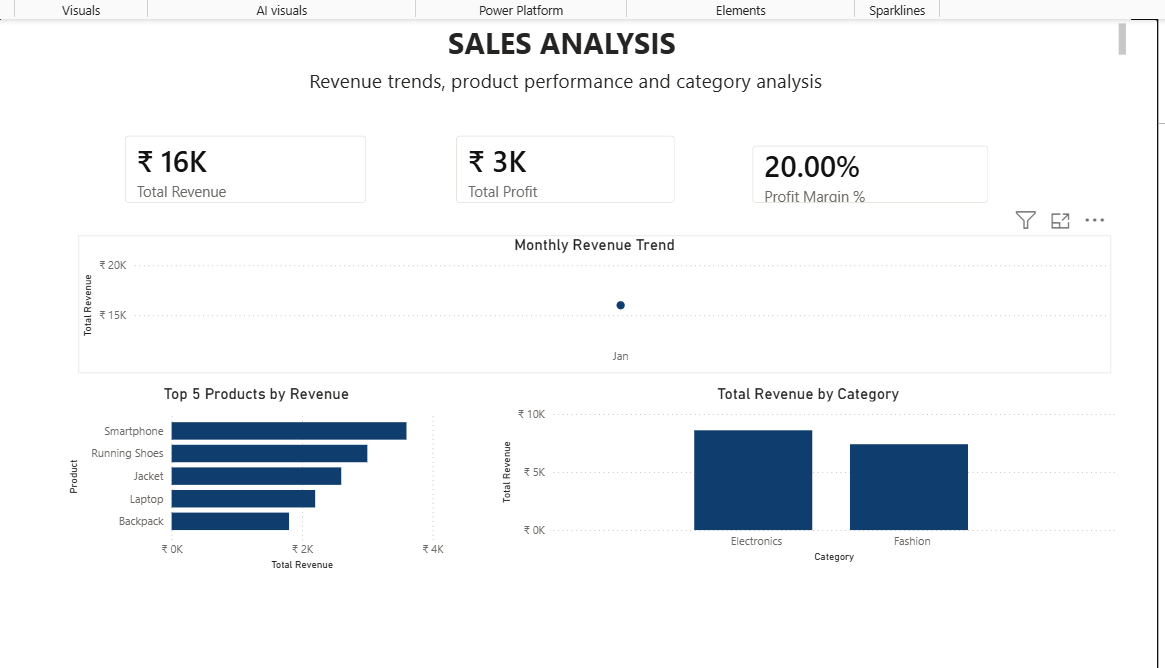

This screenshot's page, from the dashboard's own definition file:
{"tool":"powerbi","page":{"name":"Sales Analysis","canvas":[1280,720],"ordinal":1},"visuals":[{"type":"textbox","box":[9.6,0,1240.5,48],"z":0},{"type":"textbox","box":[9.6,48,1240.5,52.1],"z":1000},{"type":"lineChart","title":"Monthly Revenue Trend","fields":{"Y":["Fact_Sales.Total Revenue"],"Category":["Dim_Date.Month"]},"box":[94.7,237.4,1133.5,150.9],"z":5000},{"type":"clusteredBarChart","title":"Top 5 Products by Revenue","fields":{"Y":["Fact_Sales.Total Revenue"],"Category":["Dim_Product.Product"]},"box":[79.6,400.7,421.3,209.9],"z":6000},{"type":"clusteredColumnChart","fields":{"Category":["Dim_Product.Category"],"Y":["Fact_Sales.Total Revenue"]},"box":[554.4,400.7,683.4,200.3],"z":7000},{"type":"cardVisual","fields":{"Data":["Fact_Sales.Total Revenue"]},"box":[129,111.1,299.1,108.4],"z":7001},{"type":"cardVisual","fields":{"Data":["Fact_Sales.Total Profit"]},"box":[492.6,111.1,274.4,108.4],"z":7002},{"type":"cardVisual","fields":{"Data":["Dim_Customer.Profit Margin %"]},"box":[817.8,122.1,293.7,97.4],"z":7003}]}

Visuals, with their boxes on the page's 1280x720 design canvas (x1, y1, x2, y2). These are canvas units, not pixel positions in the 1165x668 screenshot, which may show the page scaled, cropped or inside an application window:
textbox: detection(10, 0, 1250, 48)
textbox: detection(10, 48, 1250, 100)
"Monthly Revenue Trend" lineChart: detection(95, 237, 1228, 388)
"Top 5 Products by Revenue" clusteredBarChart: detection(80, 401, 501, 611)
clusteredColumnChart - Dim_Product.Category x Fact_Sales.Total Revenue: detection(554, 401, 1238, 601)
cardVisual - Fact_Sales.Total Revenue: detection(129, 111, 428, 220)
cardVisual - Fact_Sales.Total Profit: detection(493, 111, 767, 220)
cardVisual - Dim_Customer.Profit Margin %: detection(818, 122, 1112, 220)
